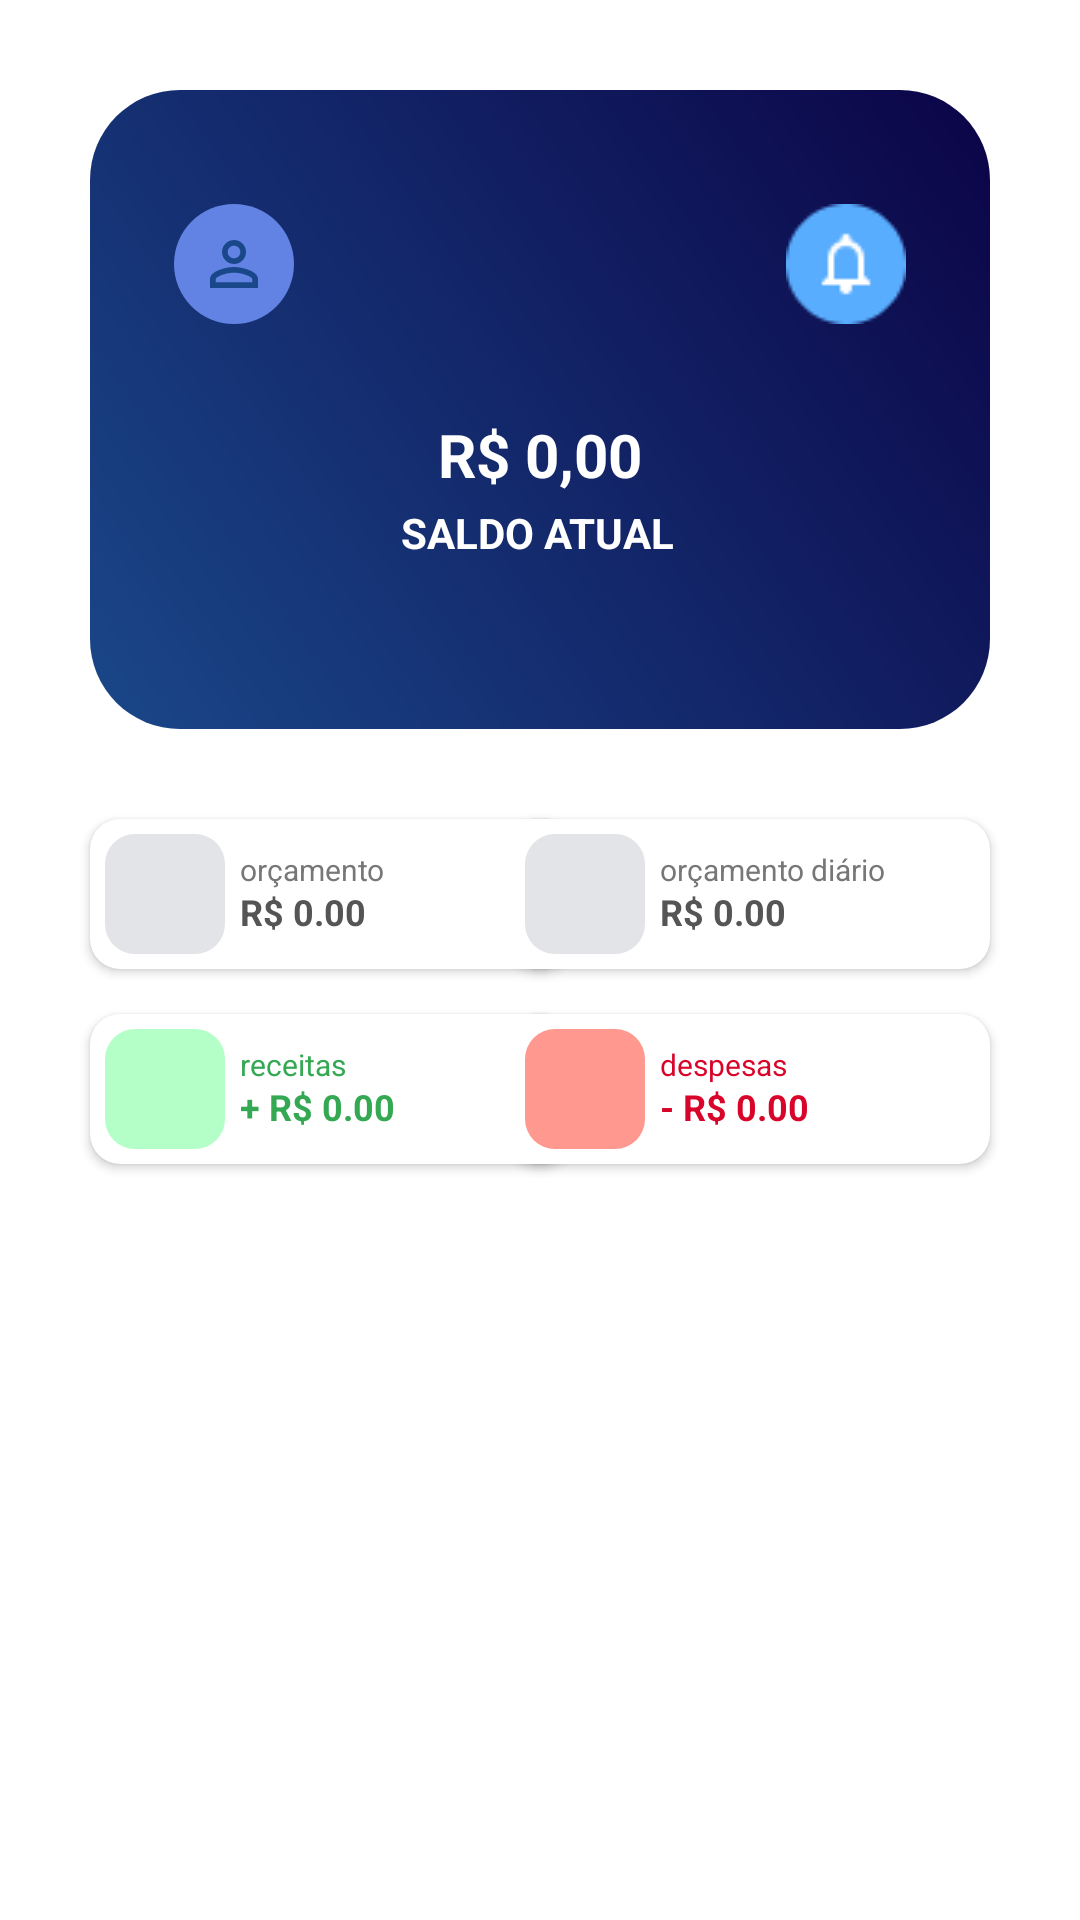

Where to tap for icons on this 1080×1920 app screen, as (x,y):
bell: (846,264)
usuario: (234,264)
